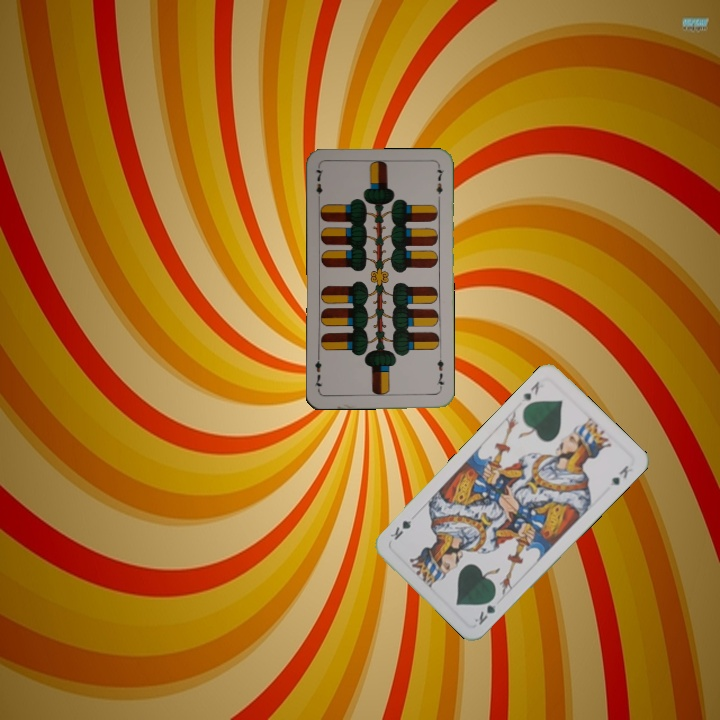E7: (433, 352, 447, 392), (312, 164, 325, 204)
GK: (470, 592, 499, 628), (518, 377, 542, 403)
